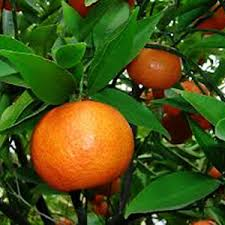orange: (26, 98, 133, 190), (126, 42, 182, 87)
